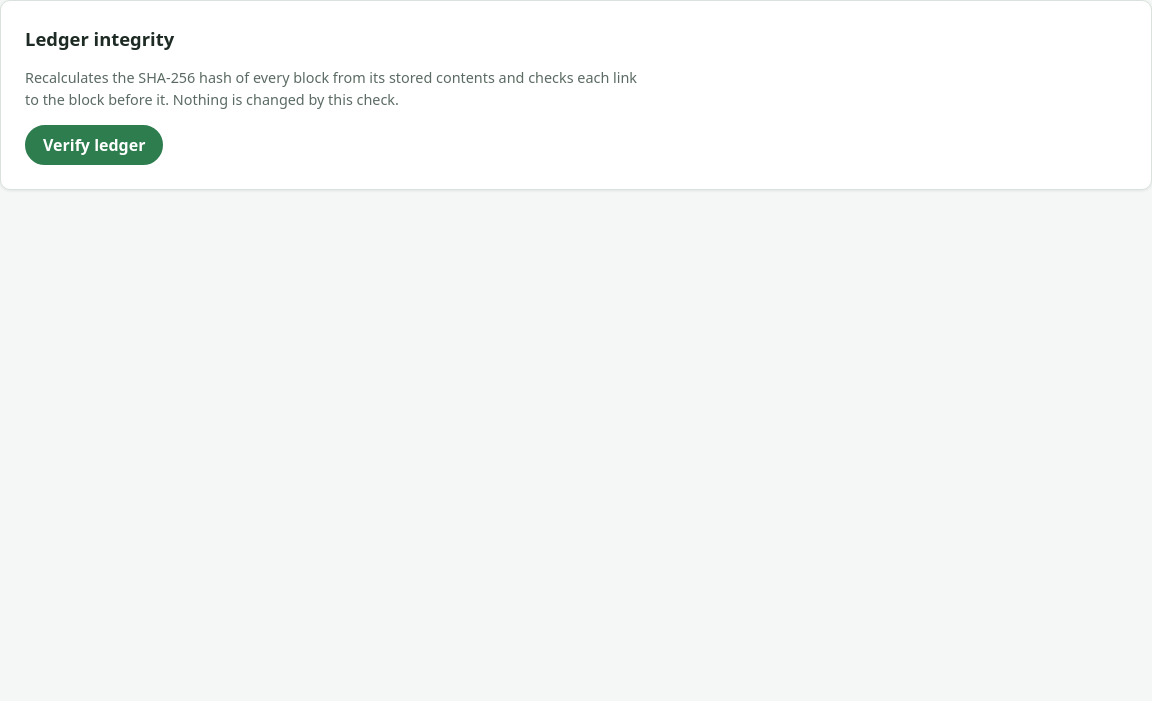
Test: LedgerVerificationPanel › shows a verifying state and does not show a result before the backend answers
Later steps or results of the test are not shown.
What coordinates should you click on to do the following:
click the button "Verify ledger"
I would click on:
 (94, 145)
Its box is x1=25 y1=125 x2=164 y2=165.
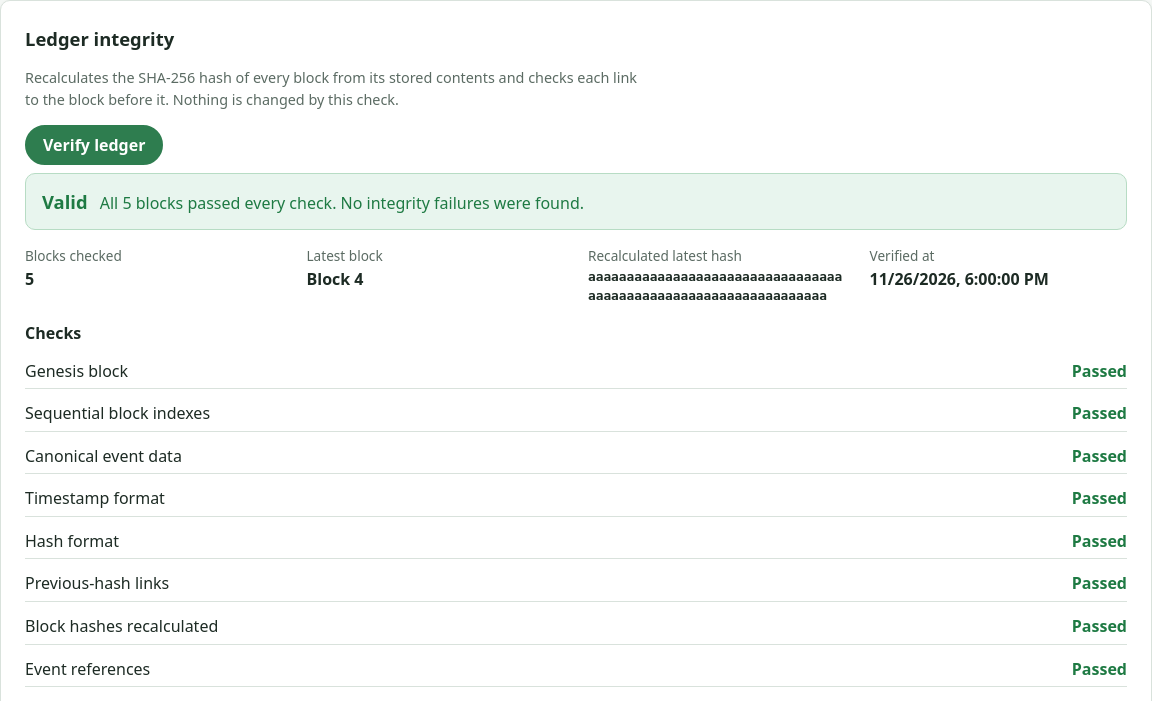
Expected: the text "Valid" is shown, x1=42 y1=189 x2=88 y2=214
